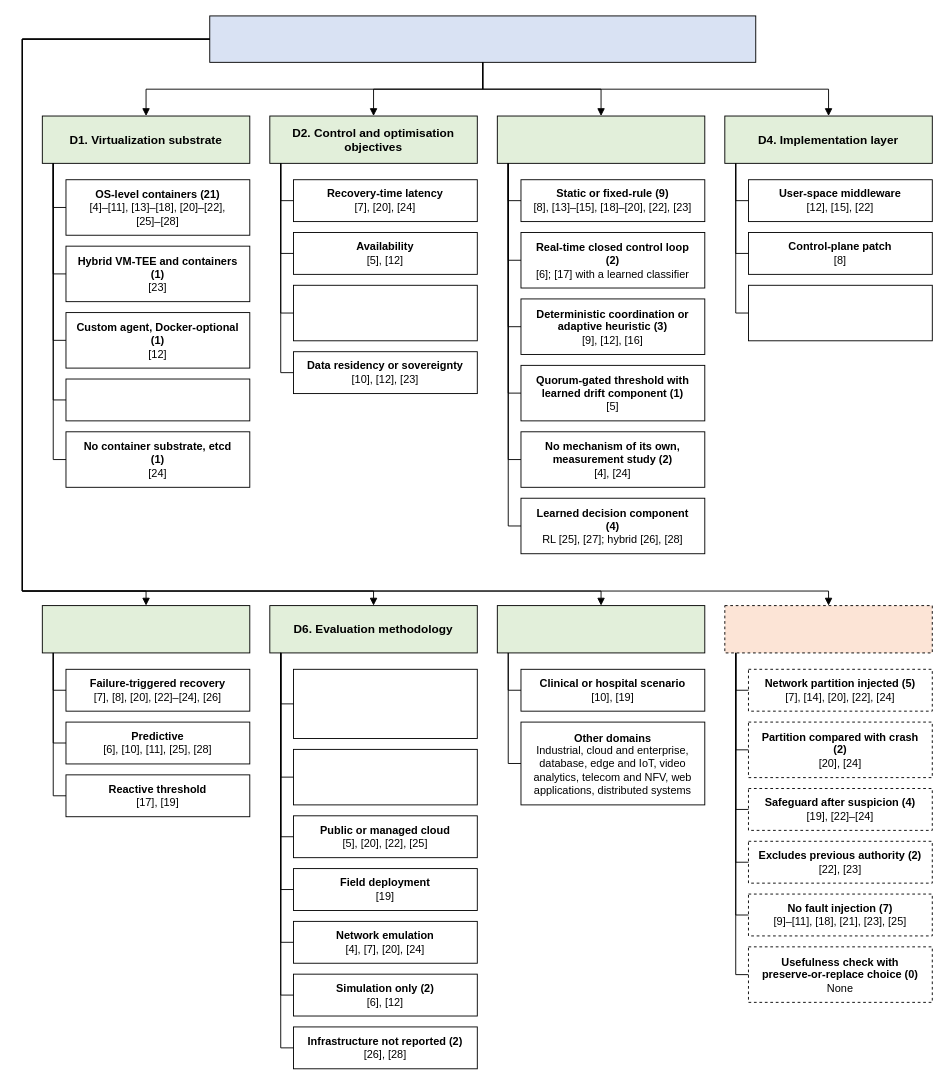
Some shapes in this 948 by 1085 pixel diagram are drawn without their labels. Here are the shapes that lost their labels. From the top down, the centre of each, then its label:
At pixel 482 38: "Primary-evidence corpus 25 included studies, all coded in Matrices 1–4".
At pixel 600 139: "D3. Decision mechanism".
At pixel 385 312: "Bandwidth and egress minimisation [4], [10], [18]".
At pixel 840 312: "Hardware-assisted virtualisation (TEE) [23]".
At pixel 157 399: "Host and device level (1) [19]".
At pixel 145 629: "D5. Runtime behaviour".
At pixel 600 629: "D7. Target workload domain".
At pixel 828 629: "Supplementary: failure handling".
At pixel 385 703: "Physical or dedicated hardware (9) [4], [7]–[9], [15], [16], [18], [23], [27]".
At pixel 385 776: "Emulated tasks, hardware not reported (1) [17]".
